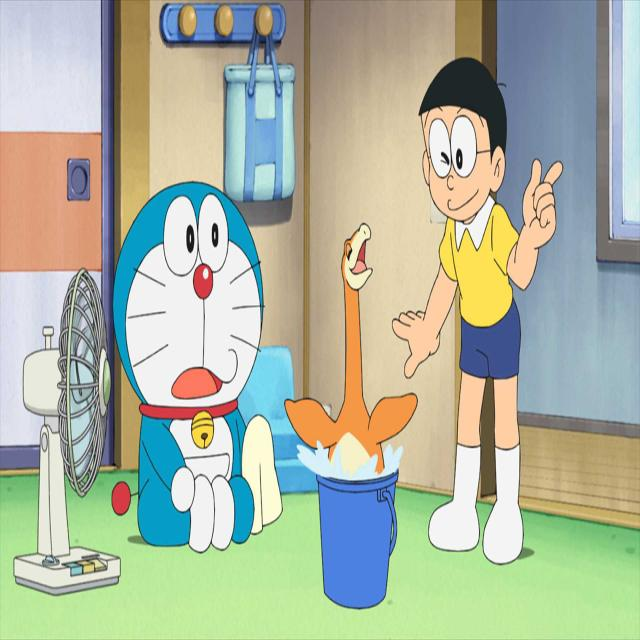doraemon: (89, 160, 299, 502)
nobita: (402, 44, 536, 272)
